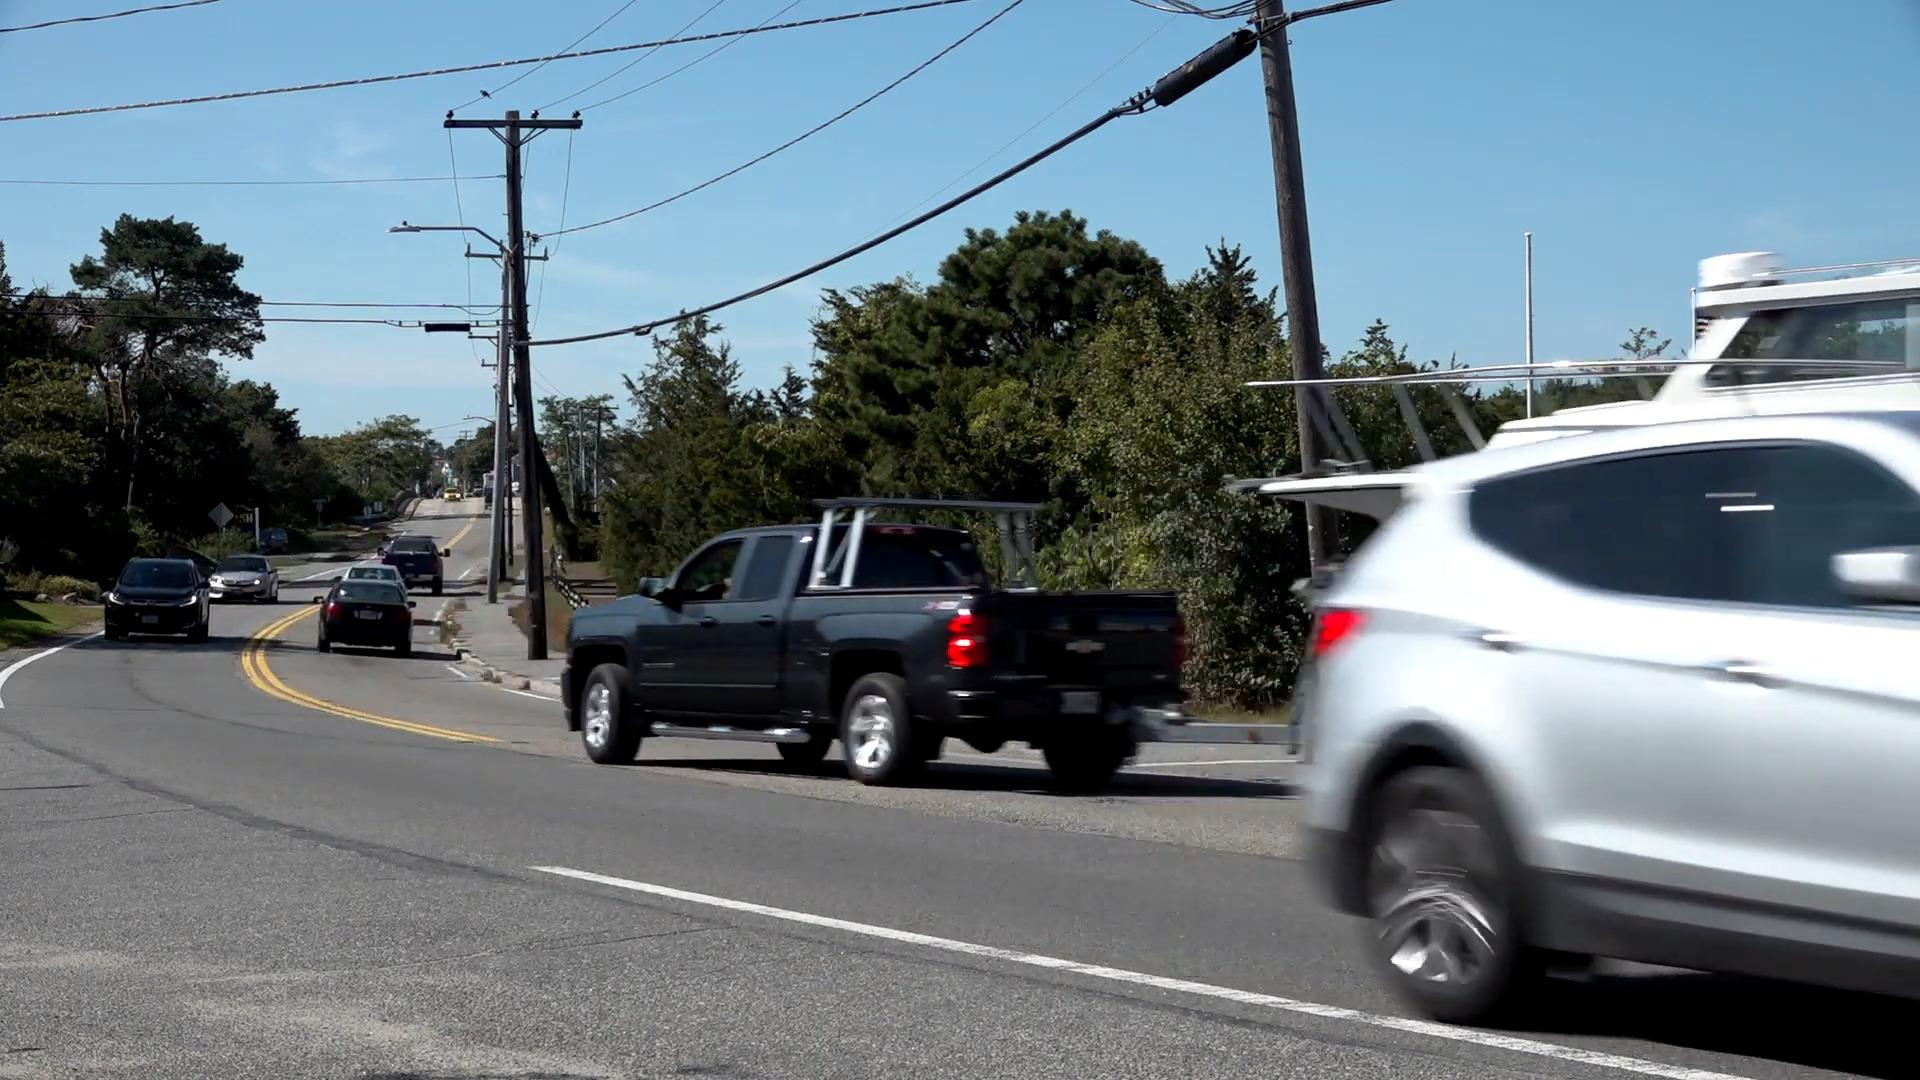pickup: (563, 505, 1191, 791)
sedans: (322, 579, 411, 655)
suv: (1303, 407, 1920, 1023), (104, 553, 211, 646)
